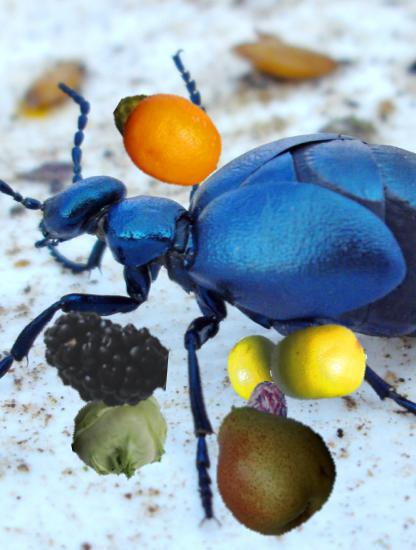Cactus: (111, 80, 214, 183)
Dates: (204, 381, 318, 495)
Kohlrabi: (71, 388, 169, 486)
Lemon: (123, 89, 226, 192)
Mulberry: (42, 296, 168, 422)
Pear: (197, 395, 339, 537)
Pomelo: (269, 313, 368, 412), (222, 334, 296, 408)
